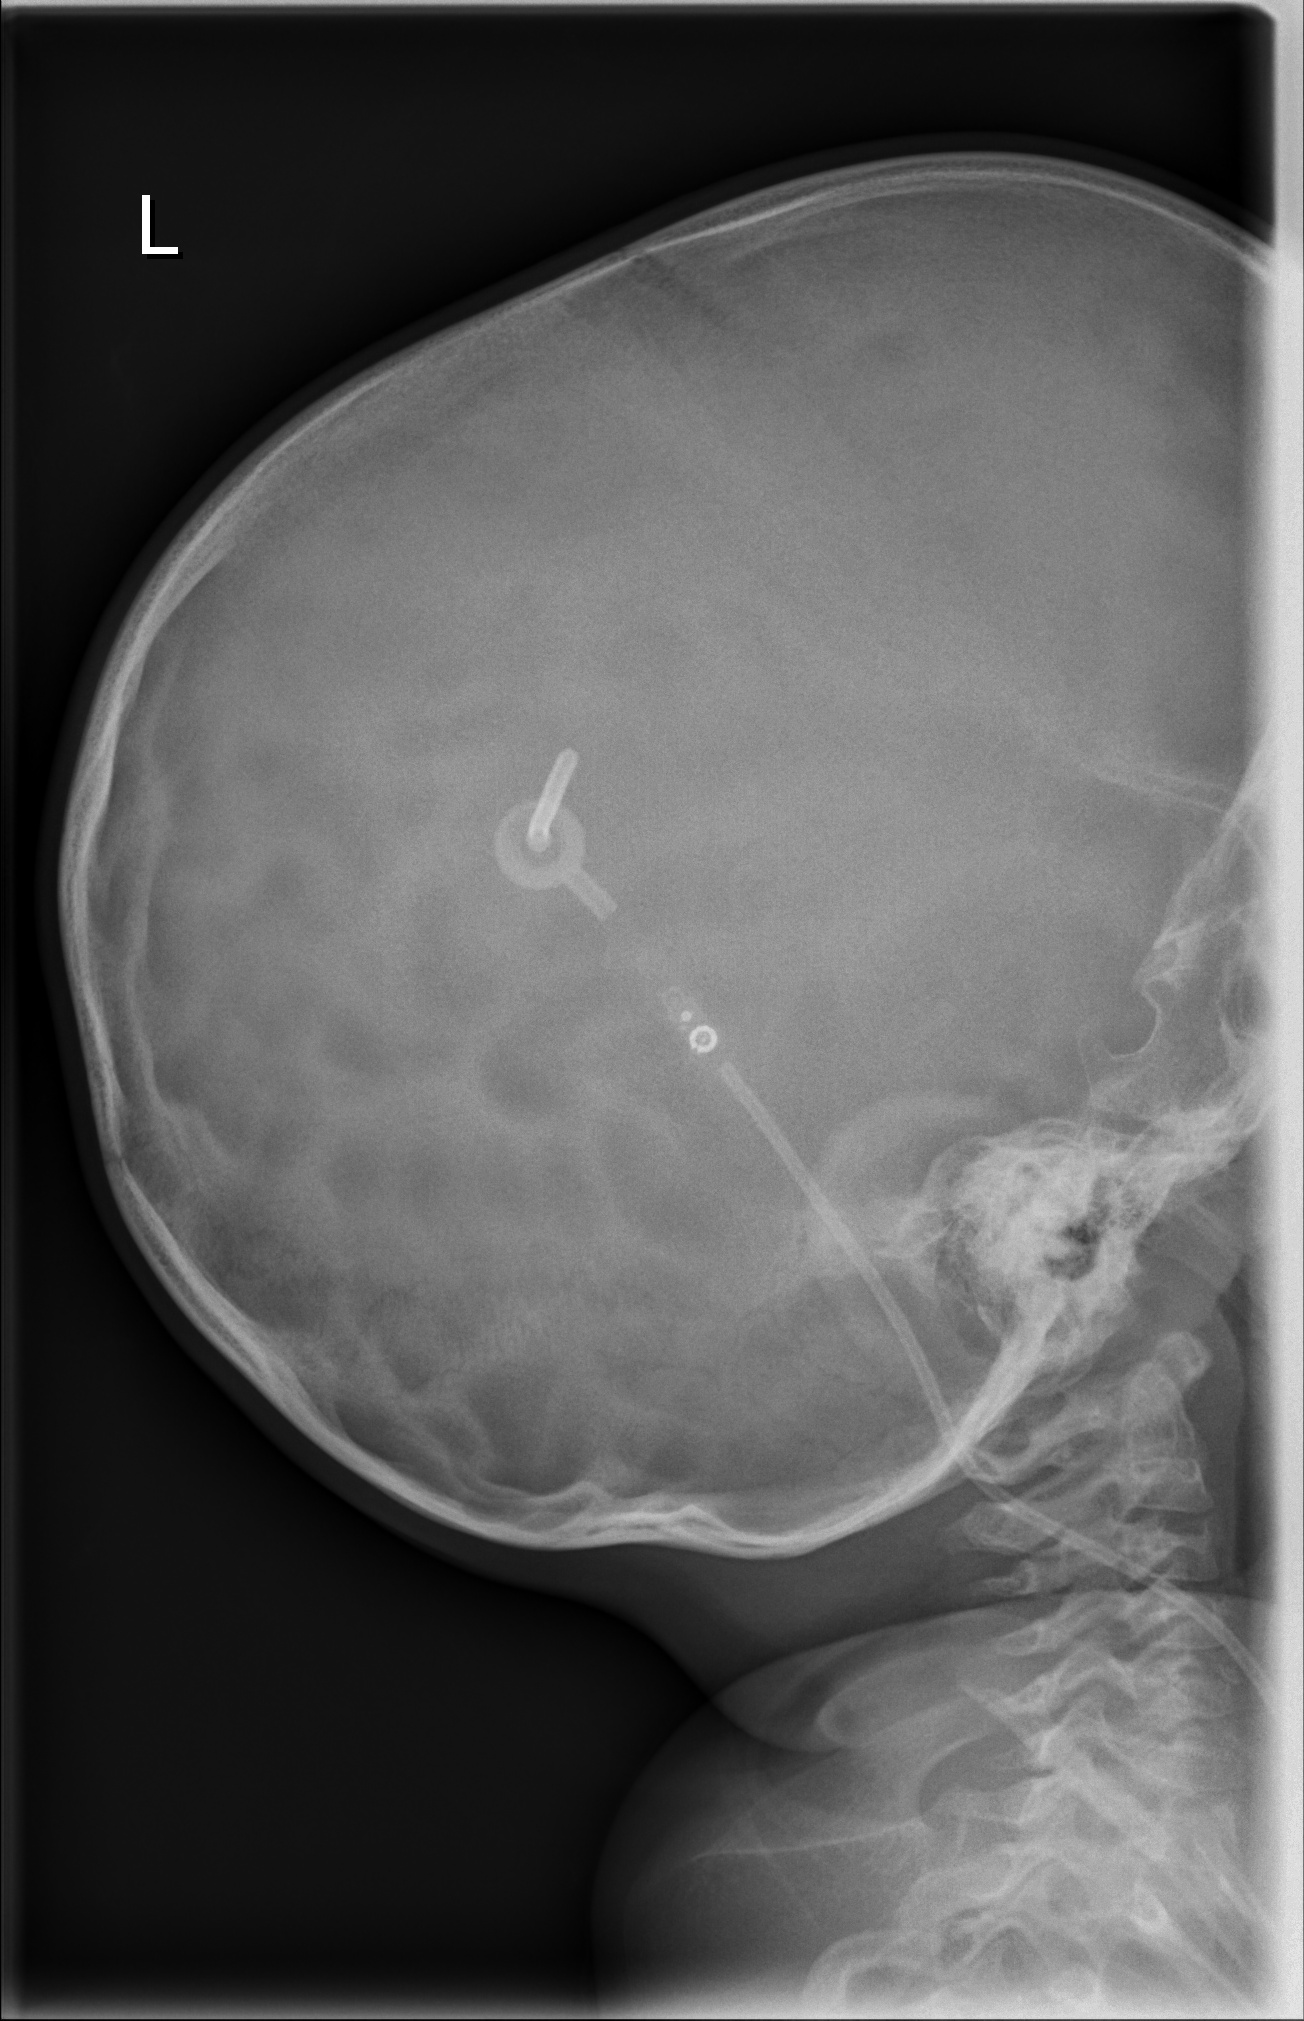Codman Hakim: (650, 984, 732, 1072)
